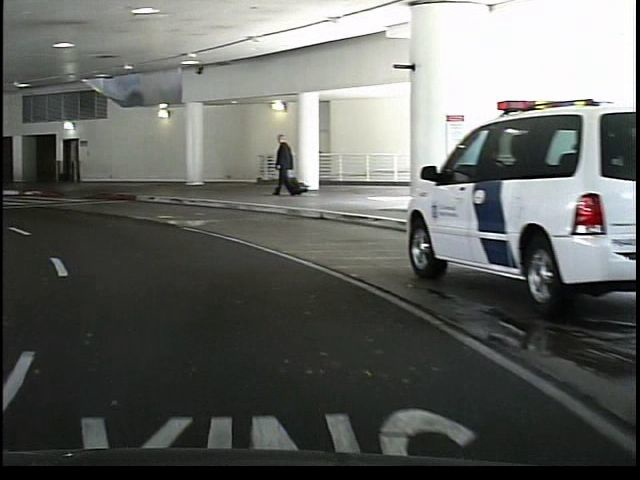person: (268, 130, 298, 202)
